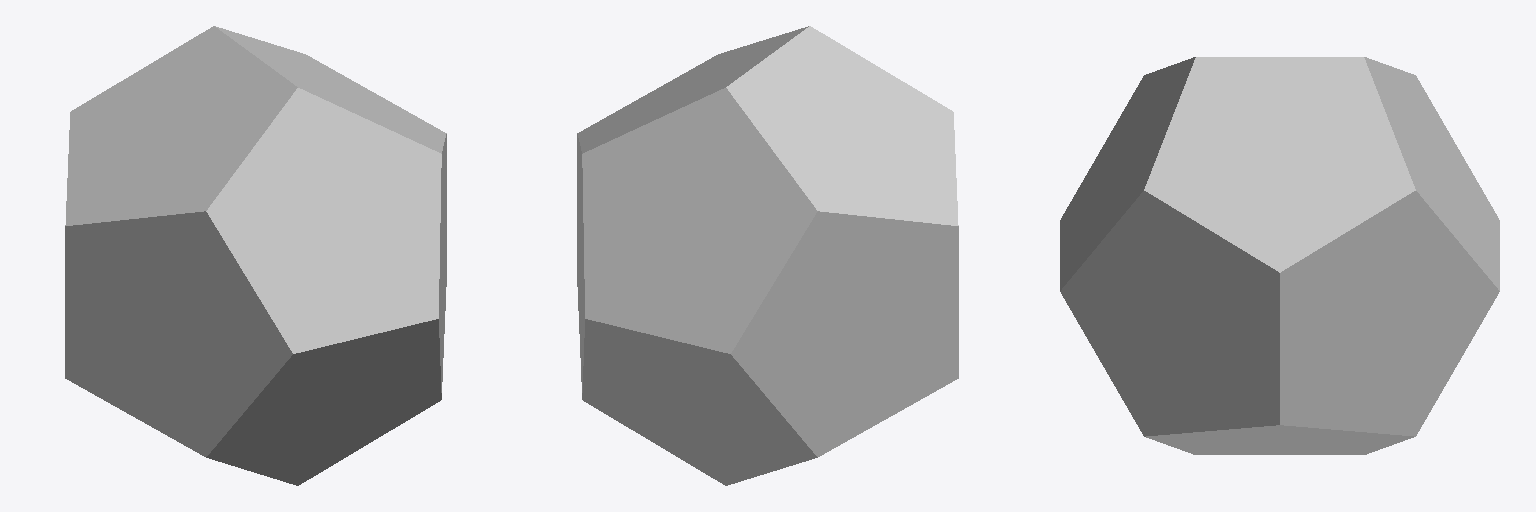
File: ball4.obj
3 views of the same model, side by side, from view 1: azimuth 30°, elevation 25°; view 2: azimuth 150°, elevation 25°; view 3: azimuth 270°, elevation 25° (orthographic).
Visible parts, largest first — view 1: cylinder1_sep25; view 2: cylinder1_sep25; view 3: cylinder1_sep25.
Part boxes in pixels (bbox=[...]): cylinder1_sep25: bbox=[65, 26, 446, 485]; cylinder1_sep25: bbox=[577, 26, 958, 485]; cylinder1_sep25: bbox=[1060, 57, 1499, 454].
Size of the model in its own units: 1.11 by 1.11 by 1.11.